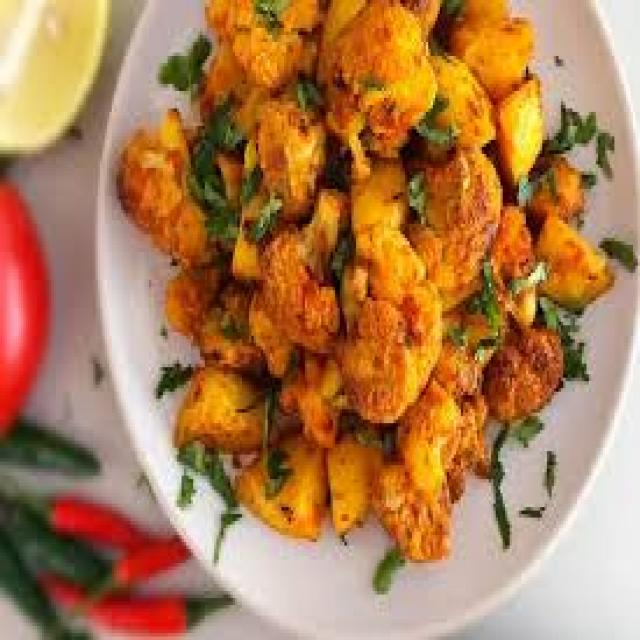Aloo Gobi: (242, 27, 462, 446)
